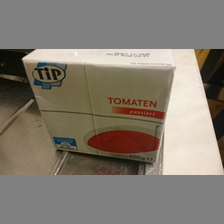tomato_sauce: (21, 49, 177, 163)
